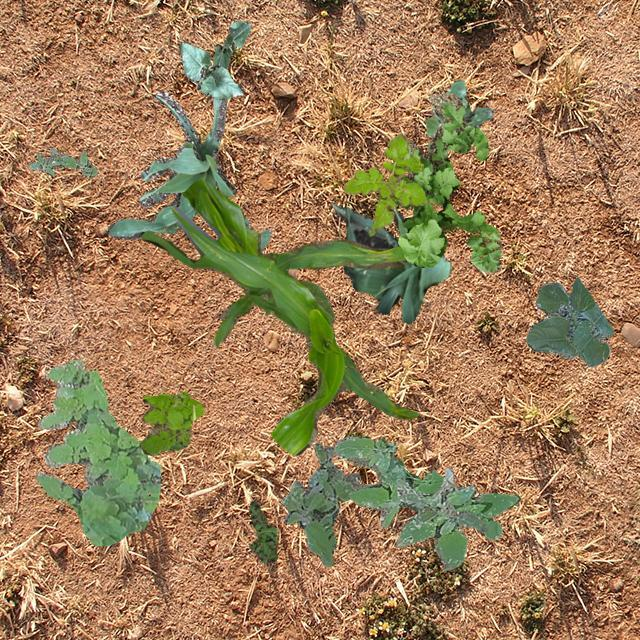crop: (140, 176, 418, 454), (106, 90, 235, 238), (330, 201, 450, 323), (526, 276, 612, 366), (179, 41, 241, 98), (212, 21, 250, 68), (298, 280, 334, 322), (243, 217, 271, 250)
weed: (332, 436, 520, 570), (36, 358, 160, 544), (391, 92, 502, 272), (280, 442, 360, 566), (342, 133, 426, 235), (394, 466, 486, 530), (424, 78, 492, 152), (138, 391, 202, 454), (28, 146, 96, 176), (248, 500, 276, 562)
